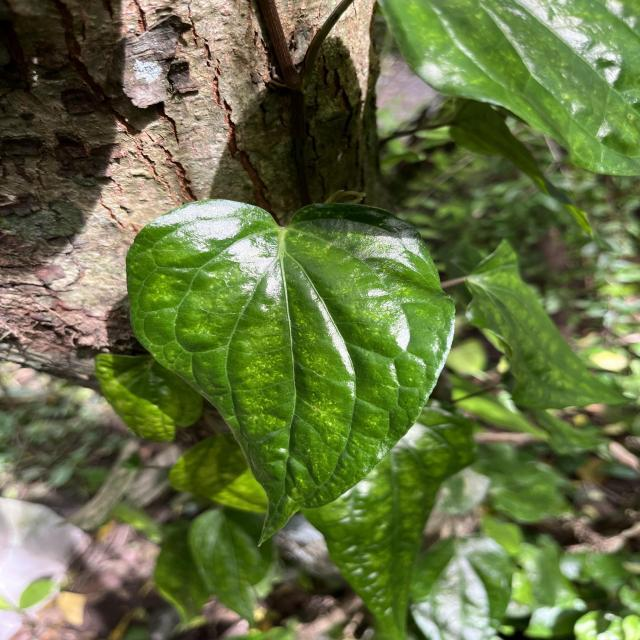Piper betle: (120, 194, 460, 550)
